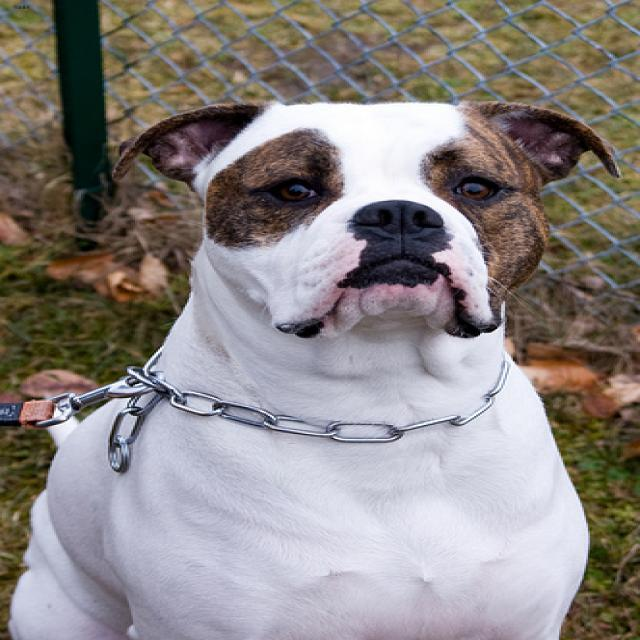dog-american_bulldog: (2, 90, 634, 637)
